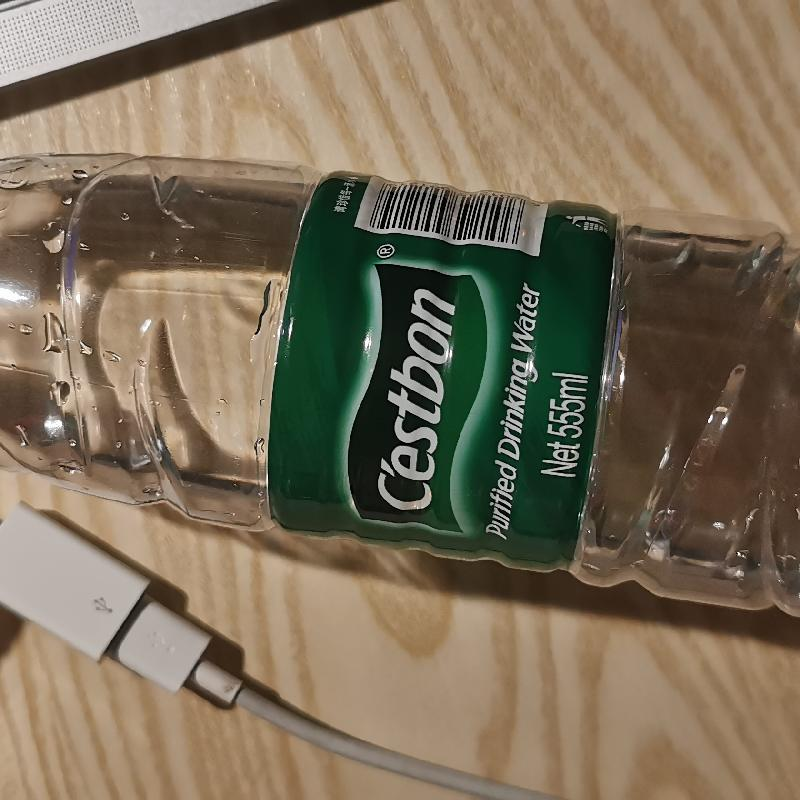bottles: (0, 144, 799, 619)
